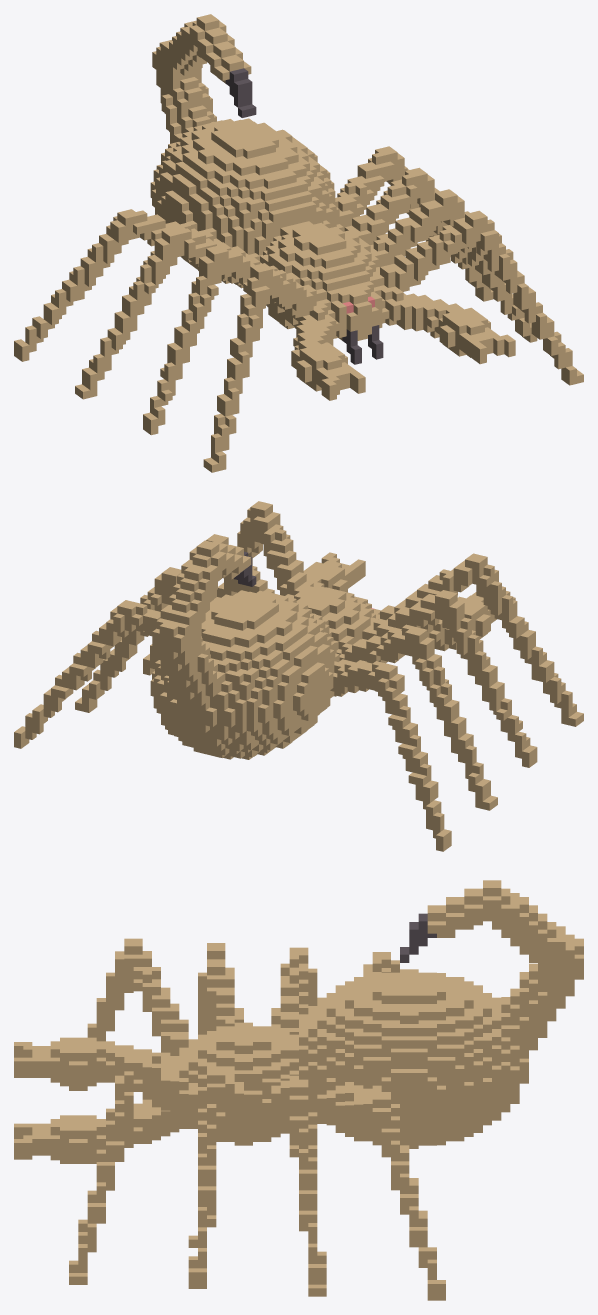
Rendered from scorpion.glb.
3 views of the same model, one above another, from view 1: azimuth 30°, elevation 25°; view 2: azimuth 150°, elevation 25°; view 3: azimuth 270°, elevation 25° (orthographic). The views are drawn at different scales.
Parts seen in each view (by area): view 1: item; view 2: item; view 3: item.
Boxes of the visible parts, x1=… form: item: x1=14, y1=14, x2=583, y2=472; item: x1=14, y1=501, x2=583, y2=851; item: x1=14, y1=880, x2=583, y2=1300.
Size of the model in its own units: 60 by 36 by 62.
